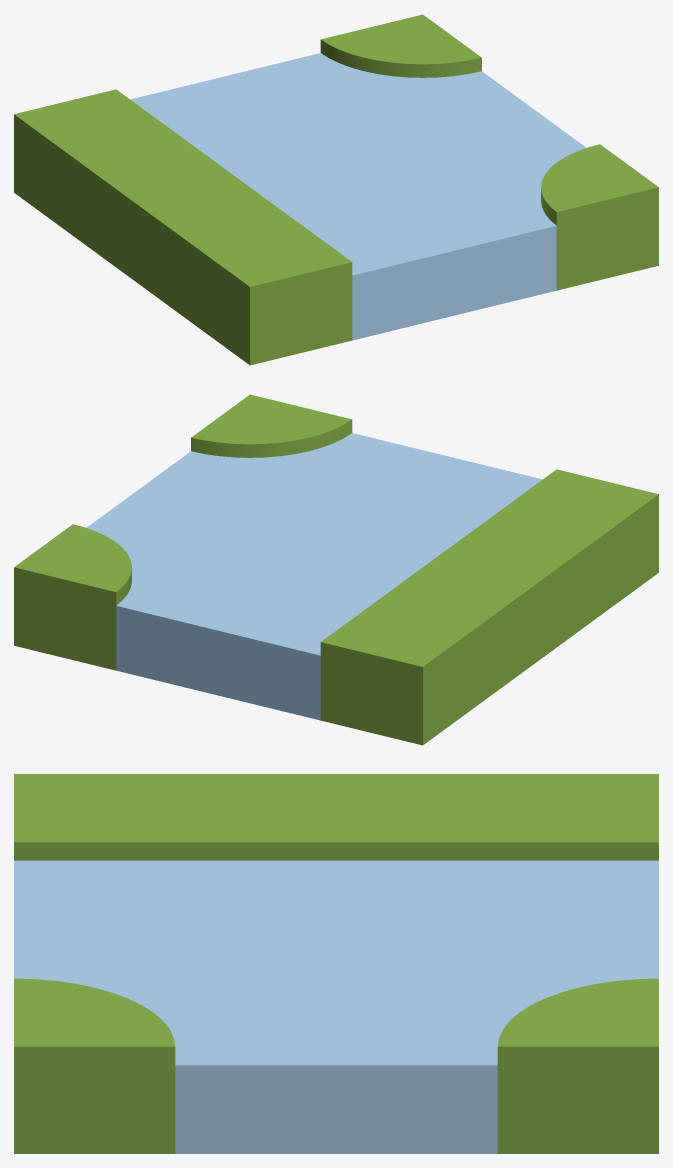
The model's file is roadTile_178.fbx.
3 renders of one model, top to bottom at view 1: azimuth 30°, elevation 25°; view 2: azimuth 150°, elevation 25°; view 3: azimuth 270°, elevation 25°, orthographic. The views are drawn at different scales.
Visible parts, largest first — view 1: roadTile_178; view 2: roadTile_178; view 3: roadTile_178.
Boxes of the visible parts, x1,y1,x2,y2 form: roadTile_178: (14,14,658,365); roadTile_178: (14,394,658,745); roadTile_178: (14,774,658,1153).
Size of the model in its own units: 118 by 21.65 by 118.
